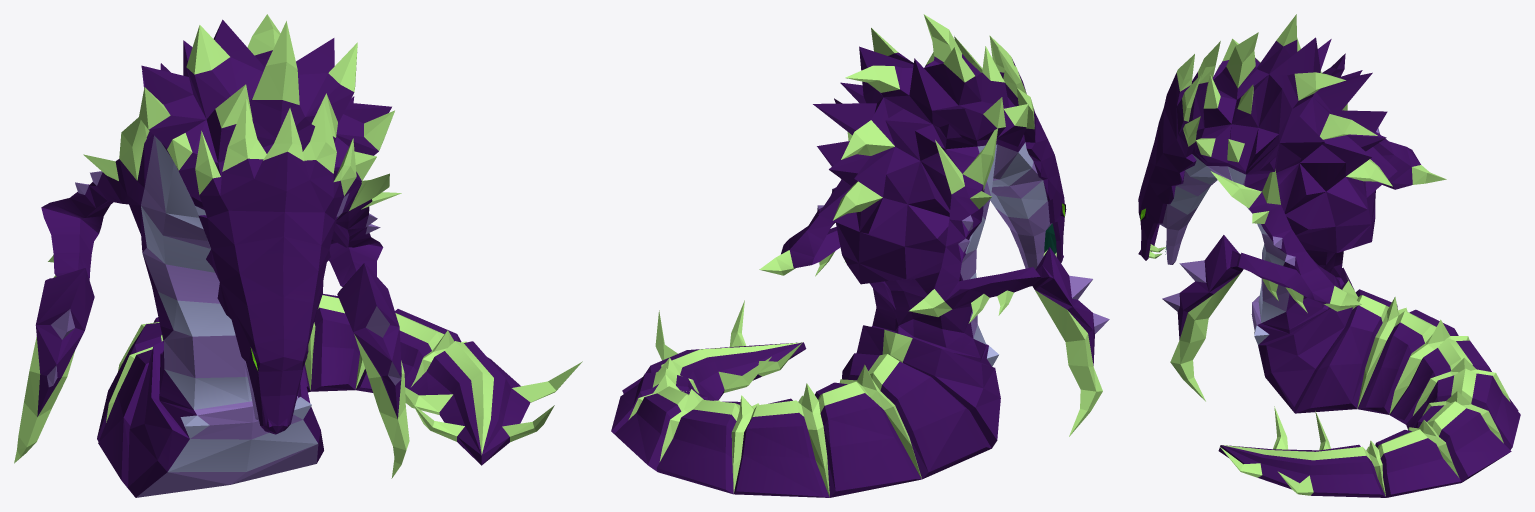
3 views of the same model, side by side, from view 1: azimuth 30°, elevation 25°; view 2: azimuth 150°, elevation 25°; view 3: azimuth 270°, elevation 25° (orthographic). The views are drawn at different scales.
Parts seen in each view (by area): view 1: Alien_Serpent; view 2: Alien_Serpent; view 3: Alien_Serpent.
Part boxes in pixels (<box>): Alien_Serpent: <box>14,14,582,497</box>; Alien_Serpent: <box>611,14,1109,497</box>; Alien_Serpent: <box>1138,14,1520,497</box>.
Bounding box in the file's own units: 264 × 220 × 209.
1 material, 1 textured.
